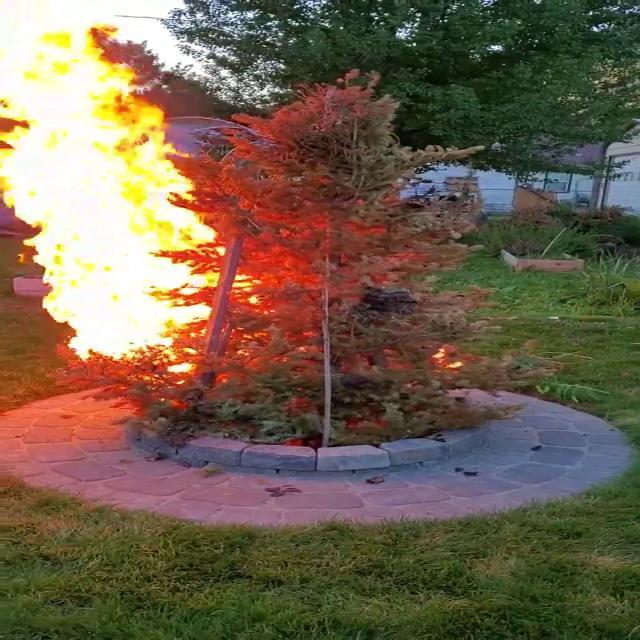Fire: (2, 18, 249, 368)
